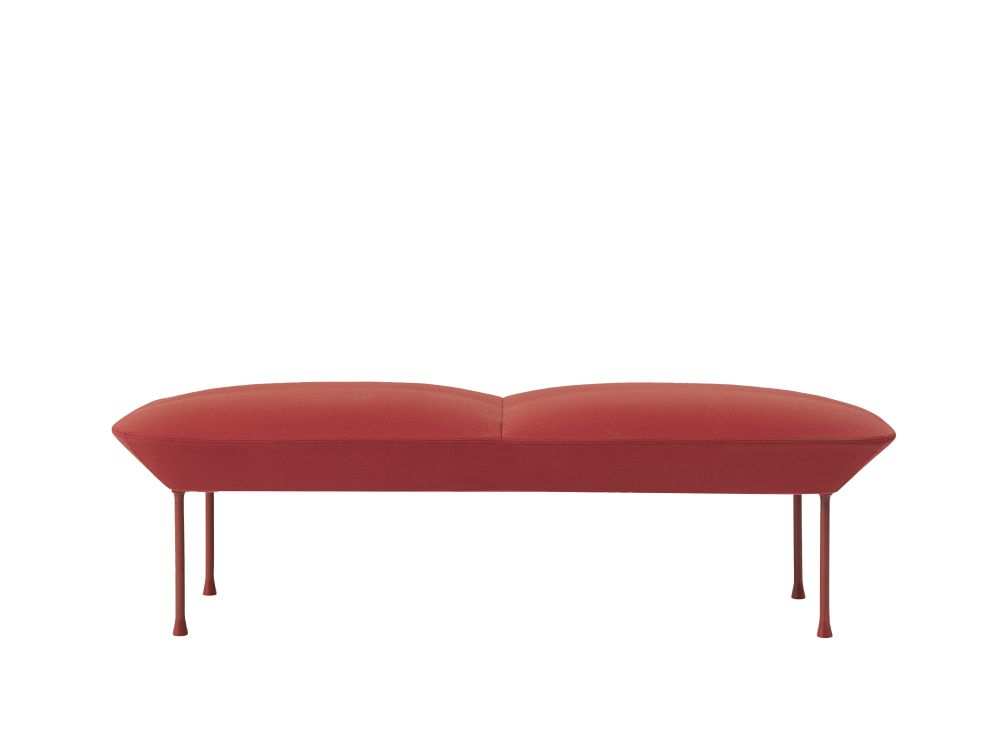chairs: (109, 380, 903, 647)
